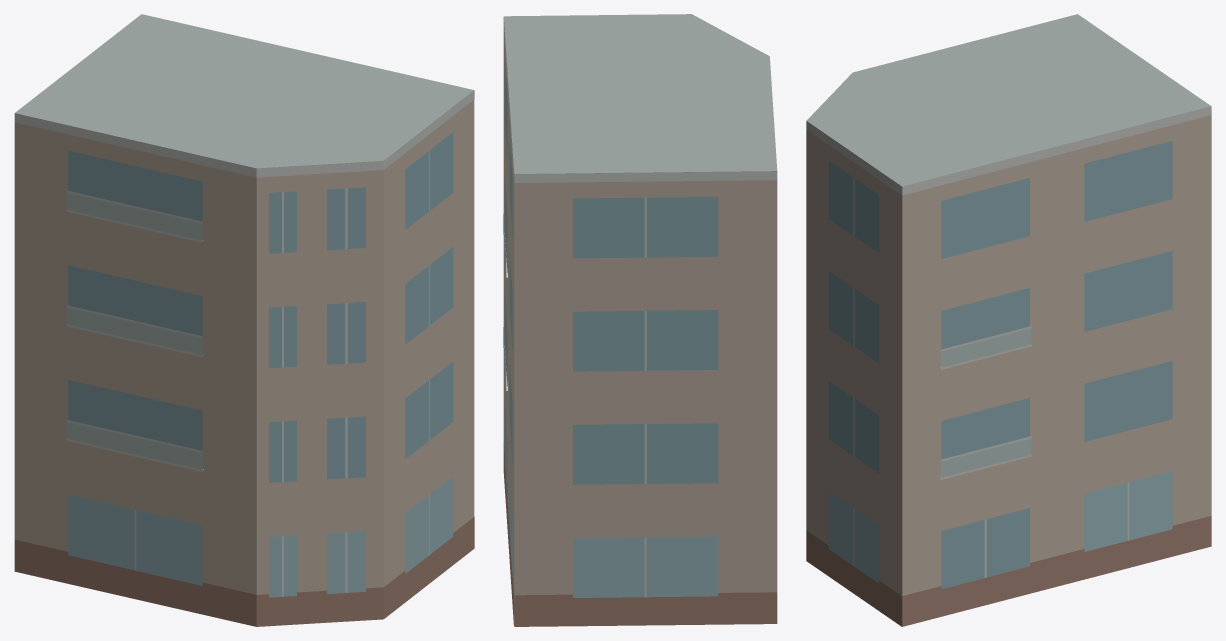
Rendered from residential-e229a8cb-57a1-4ecd-9c7d-698333799d52.glb.
3 renders of one model, left to right at view 1: azimuth 30°, elevation 25°; view 2: azimuth 150°, elevation 25°; view 3: azimuth 270°, elevation 25°, orthographic. The views are drawn at different scales.
Visible parts, largest first — view 1: residential-e229a8cb-57a1-4ecd-9c7d-698333799d52.tmp; view 2: residential-e229a8cb-57a1-4ecd-9c7d-698333799d52.tmp; view 3: residential-e229a8cb-57a1-4ecd-9c7d-698333799d52.tmp.
Boxes of the visible parts, left/top/right/bottom form: residential-e229a8cb-57a1-4ecd-9c7d-698333799d52.tmp: left=14, top=14, right=474, bottom=626; residential-e229a8cb-57a1-4ecd-9c7d-698333799d52.tmp: left=503, top=14, right=777, bottom=626; residential-e229a8cb-57a1-4ecd-9c7d-698333799d52.tmp: left=806, top=14, right=1211, bottom=626.
Size of the model in its own units: 10.27 by 12.2 by 10.19.
